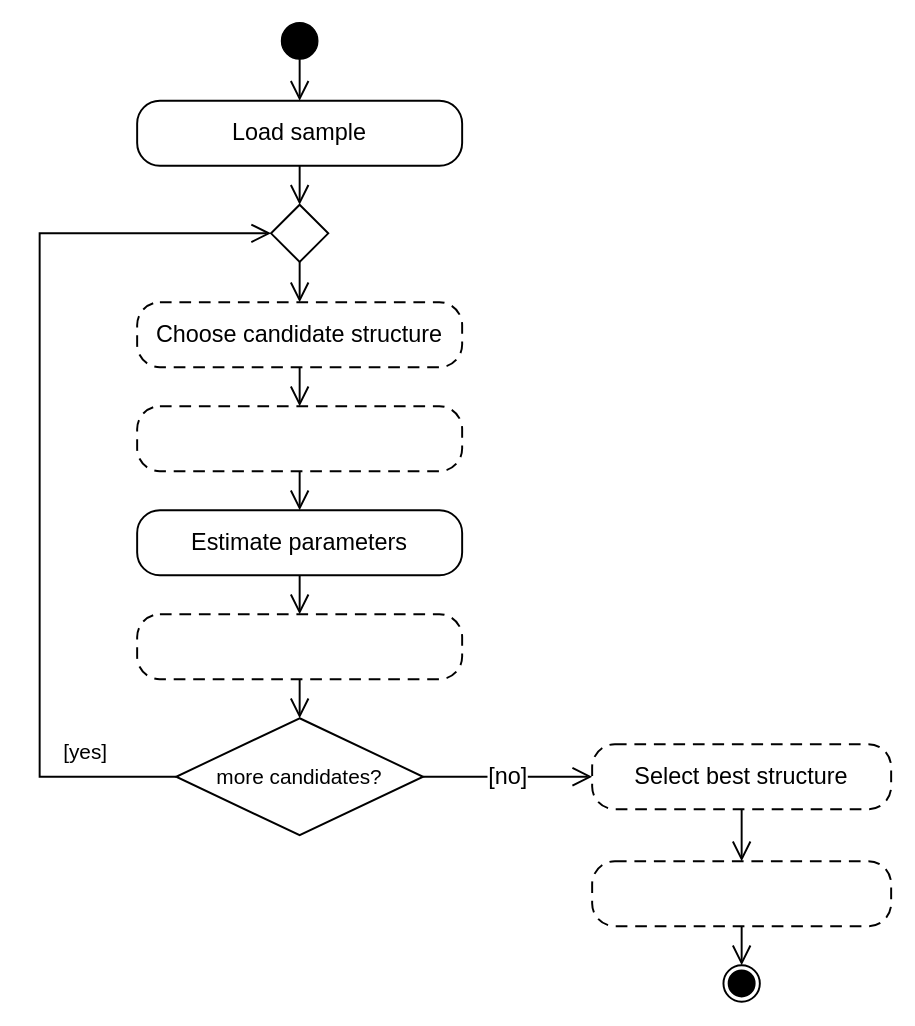
Some shapes in this 915 by 1026 pixel diagram are drawn without their labels. The shapes that lost their labels are listed below. From the top down, each one's centre as x and y in pixels, then its label:
At (x=299, y=438): "Initialize parameters".
At (x=299, y=646): "Compute selection criterion".
At (x=741, y=893): "Run diagnostics".
